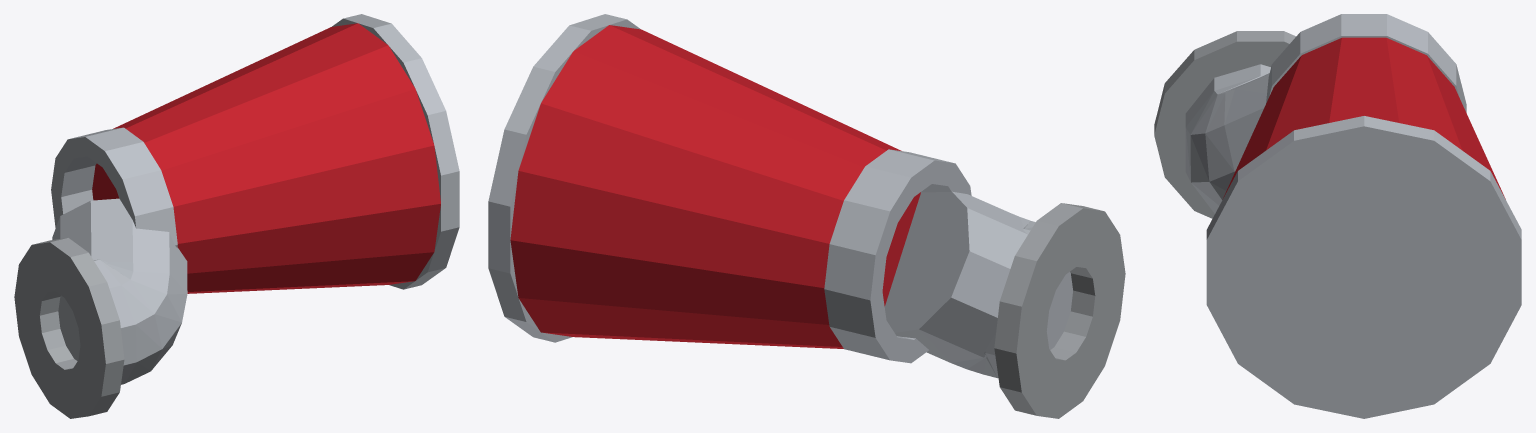
File: brute_500.glb
3 renders of one model, left to right at view 1: azimuth 30°, elevation 25°; view 2: azimuth 150°, elevation 25°; view 3: azimuth 270°, elevation 25°, orthographic. The views are drawn at different scales.
Parts seen in each view (by area): view 1: model; view 2: model; view 3: model.
Part boxes in pixels (x1=…): model: x1=14, y1=14, x2=459, y2=418; model: x1=488, y1=14, x2=1125, y2=418; model: x1=1154, y1=14, x2=1521, y2=418.
Size of the model in its own units: 0.2435 by 0.1629 by 0.1773.
Materials: 2 (1 with a texture image).
